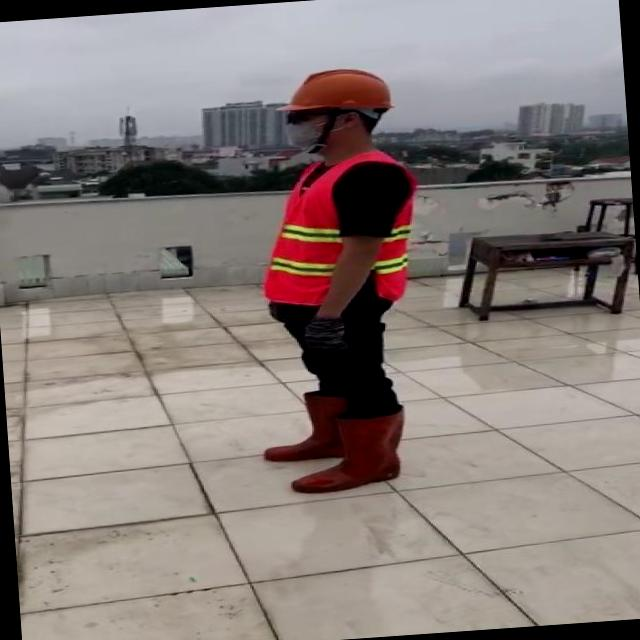boots: (282, 404, 413, 494), (261, 386, 348, 466)
gloves: (300, 316, 346, 354)
helmet: (276, 63, 398, 119)
vest: (253, 149, 420, 308)
